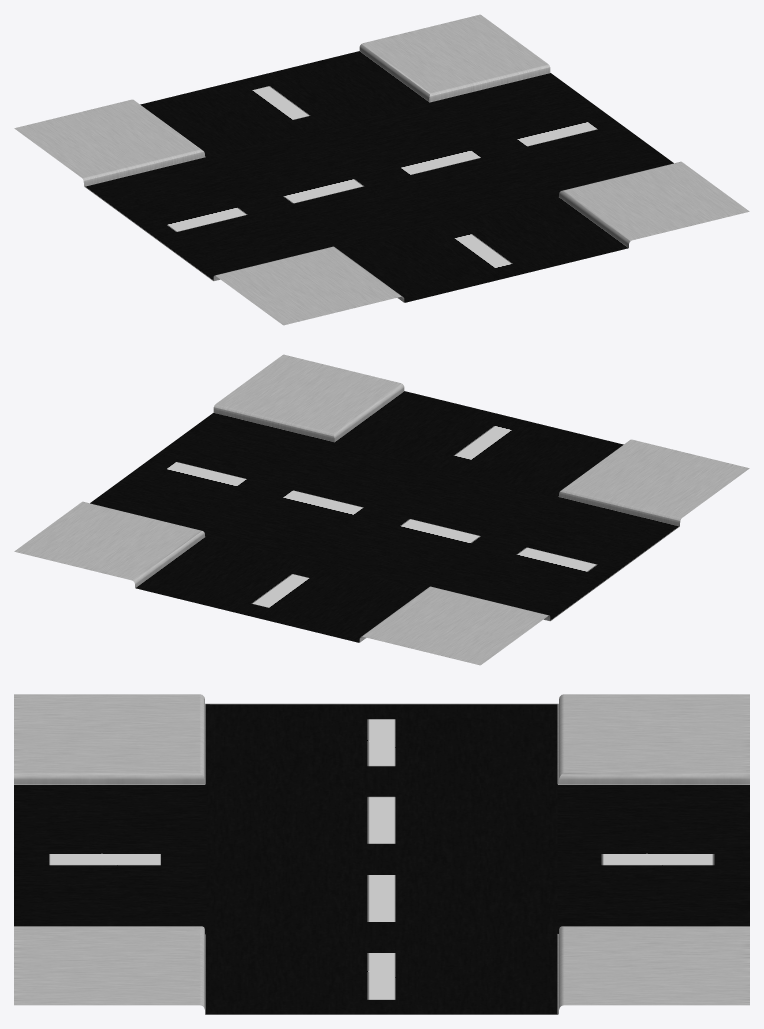
File: Road_CrossIntersection.fbx
3 views of the same model, one above another, from view 1: azimuth 30°, elevation 25°; view 2: azimuth 150°, elevation 25°; view 3: azimuth 270°, elevation 25° (orthographic). The views are drawn at different scales.
Visible parts, largest first — view 1: CrossIntersection; view 2: CrossIntersection; view 3: CrossIntersection.
Boxes of the visible parts, x1,y1,x2,y2 form: CrossIntersection: (14,14,749,325); CrossIntersection: (14,354,749,665); CrossIntersection: (14,694,749,1014).
Bounding box in the file's own units: 69.5 × 1 × 69.5.
Materials: 1 (1 with a texture image).
